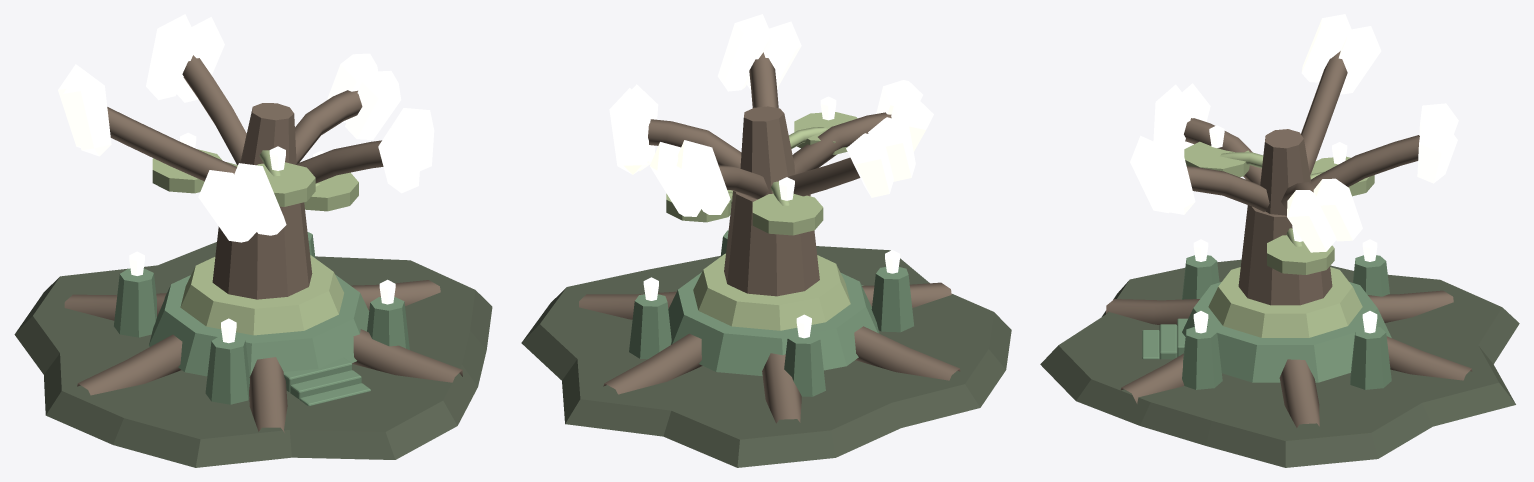
Rendered from emerald-wilds-lod1.glb.
3 renders of one model, left to right at view 1: azimuth 30°, elevation 25°; view 2: azimuth 150°, elevation 25°; view 3: azimuth 270°, elevation 25°, orthographic. The views are drawn at different scales.
Visible parts, largest first — view 1: STONE_TERRAIN_SOCKET, STONE_TEMPLE_TERRACE_LOWER, TRIM_TEMPLE_TERRACE_UPPER, ORGANIC_TRUNK_LOWER, FX_FOLIAGE_BRANCH_2, ORGANIC_BUTTRESS_ROOT_3, FX_FOLIAGE_BLADE_1_1, FX_FOLIAGE_BLADE_2_1, ORGANIC_BUTTRESS_ROOT_5, ORGANIC_TRUNK_UPPER, STONE_ROOT_SHRINE_2, FX_FOLIAGE_BRANCH_1 (+20 smaller); view 2: STONE_TERRAIN_SOCKET, STONE_TEMPLE_TERRACE_LOWER, ORGANIC_TRUNK_LOWER, TRIM_TEMPLE_TERRACE_UPPER, ORGANIC_TRUNK_UPPER, ORGANIC_BUTTRESS_ROOT_3, FX_FOLIAGE_BLADE_0_1, ORGANIC_BUTTRESS_ROOT_1, FX_FOLIAGE_BLADE_1_1, FX_FOLIAGE_BLADE_4_1, STONE_CANOPY_PLATFORM_1, STONE_ROOT_SHRINE_2 (+18 smaller); view 3: STONE_TERRAIN_SOCKET, STONE_TEMPLE_TERRACE_LOWER, TRIM_TEMPLE_TERRACE_UPPER, ORGANIC_TRUNK_LOWER, ORGANIC_TRUNK_UPPER, FX_FOLIAGE_BLADE_4_1, FX_FOLIAGE_BRANCH_1, FX_FOLIAGE_BRANCH_2, STONE_ROOT_SHRINE_0, STONE_ROOT_SHRINE_3, ORGANIC_BUTTRESS_ROOT_0, FX_FOLIAGE_BLADE_0_0 (+21 smaller).
Boxes of the visible parts, x1,y1,x2,y2 form: STONE_TERRAIN_SOCKET: (14,242,492,467); STONE_TEMPLE_TERRACE_LOWER: (149,274,369,376); TRIM_TEMPLE_TERRACE_UPPER: (180,255,343,335); ORGANIC_TRUNK_LOWER: (212,202,312,299); FX_FOLIAGE_BRANCH_2: (107,107,236,181); ORGANIC_BUTTRESS_ROOT_3: (77,334,182,395); FX_FOLIAGE_BLADE_1_1: (146,14,198,100); FX_FOLIAGE_BLADE_2_1: (63,68,111,156); ORGANIC_BUTTRESS_ROOT_5: (352,329,462,382); ORGANIC_TRUNK_UPPER: (240,103,296,165); STONE_ROOT_SHRINE_2: (205,335,249,404); FX_FOLIAGE_BRANCH_1: (182,55,246,164); STONE_TERRAIN_SOCKET: (521,246,1011,467); STONE_TEMPLE_TERRACE_LOWER: (668,272,879,376); ORGANIC_TRUNK_LOWER: (724,191,819,296); TRIM_TEMPLE_TERRACE_UPPER: (693,253,850,330); ORGANIC_TRUNK_UPPER: (740,106,794,195); ORGANIC_BUTTRESS_ROOT_3: (854,326,960,380); FX_FOLIAGE_BLADE_0_1: (609,88,651,174); ORGANIC_BUTTRESS_ROOT_1: (603,333,702,394); FX_FOLIAGE_BLADE_1_1: (676,140,730,214); FX_FOLIAGE_BLADE_4_1: (717,14,769,91); STONE_CANOPY_PLATFORM_1: (752,193,823,235); STONE_ROOT_SHRINE_2: (871,267,913,332); STONE_TERRAIN_SOCKET: (1040,259,1519,467); STONE_TEMPLE_TERRACE_LOWER: (1182,282,1391,382); TRIM_TEMPLE_TERRACE_UPPER: (1208,267,1362,337); ORGANIC_TRUNK_LOWER: (1238,205,1332,305); ORGANIC_TRUNK_UPPER: (1260,129,1311,215); FX_FOLIAGE_BLADE_4_1: (1145,137,1195,214); FX_FOLIAGE_BRANCH_1: (1311,135,1419,187); FX_FOLIAGE_BRANCH_2: (1301,51,1347,174); STONE_ROOT_SHRINE_0: (1350,326,1391,389); STONE_ROOT_SHRINE_3: (1182,326,1222,389); ORGANIC_BUTTRESS_ROOT_0: (1279,359,1319,427); FX_FOLIAGE_BLADE_0_0: (1287,190,1336,252).
Size of the model in its own units: 1.91 by 1.27 by 1.93.
